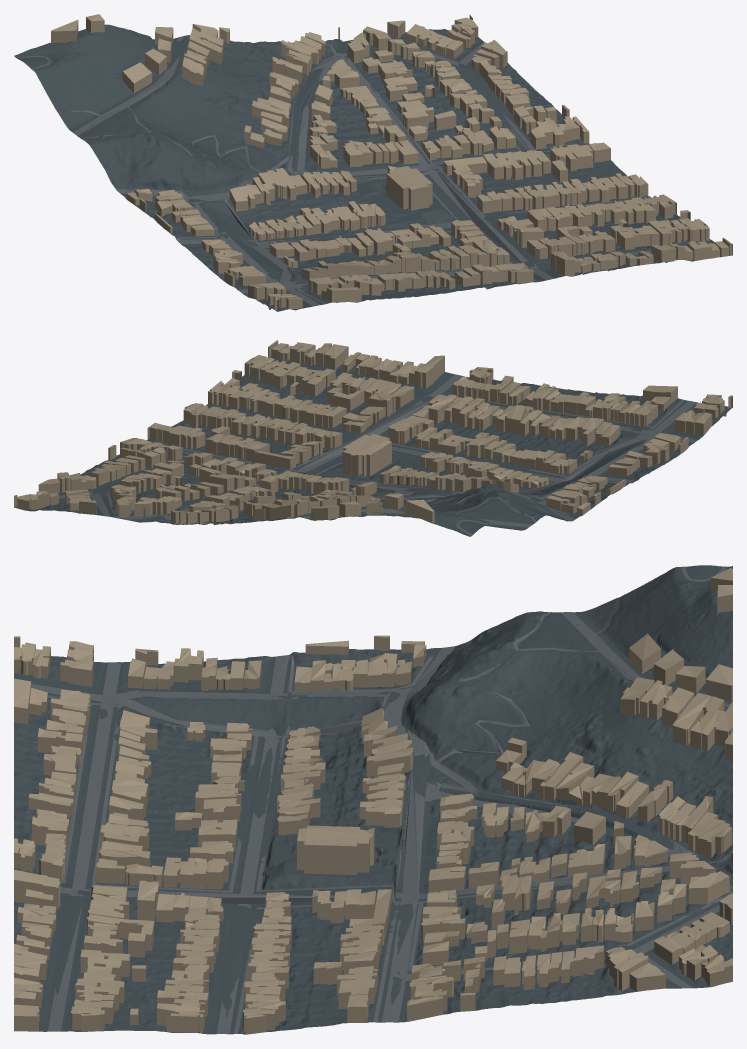
Rendered from epsg26910-1432-10878.lod0.glb.
3 renders of one model, top to bottom at view 1: azimuth 30°, elevation 25°; view 2: azimuth 150°, elevation 25°; view 3: azimuth 270°, elevation 25°, orthographic. The views are drawn at different scales.
Parts seen in each view (by area): view 1: epsg26910-1432-10878-lod0; view 2: epsg26910-1432-10878-lod0; view 3: epsg26910-1432-10878-lod0.
Part boxes in pixels (box(x1,y1,x2,y2)): epsg26910-1432-10878-lod0: box(14, 14, 732, 311); epsg26910-1432-10878-lod0: box(14, 340, 732, 536); epsg26910-1432-10878-lod0: box(14, 565, 732, 1034).
Size of the model in its own units: 384 by 114 by 384.
